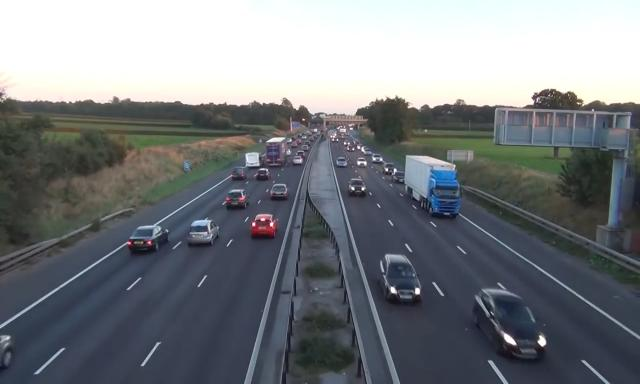caminhaog: (404, 154, 463, 220), (265, 136, 288, 168)
carro: (472, 287, 548, 365), (378, 252, 422, 304), (128, 224, 171, 255), (186, 220, 222, 248), (250, 214, 280, 240), (225, 188, 251, 212), (0, 329, 15, 370), (348, 177, 368, 197), (270, 183, 289, 201), (231, 166, 247, 181), (255, 168, 271, 182), (392, 170, 405, 185), (382, 163, 397, 175), (336, 156, 348, 168), (356, 156, 368, 168), (371, 153, 383, 165), (293, 156, 304, 166), (295, 150, 305, 159), (301, 144, 309, 153), (347, 145, 355, 152), (363, 148, 371, 155), (344, 140, 350, 148), (356, 144, 364, 150), (307, 136, 315, 142), (332, 137, 339, 143), (286, 149, 291, 157), (292, 142, 298, 148), (295, 139, 301, 145), (290, 135, 296, 141), (287, 138, 292, 144), (301, 136, 306, 140)
van: (244, 151, 264, 168)
